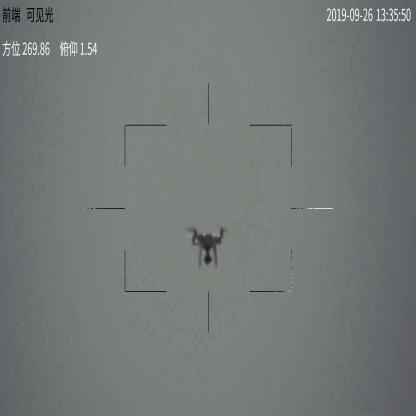uav: (183, 225, 232, 268)
